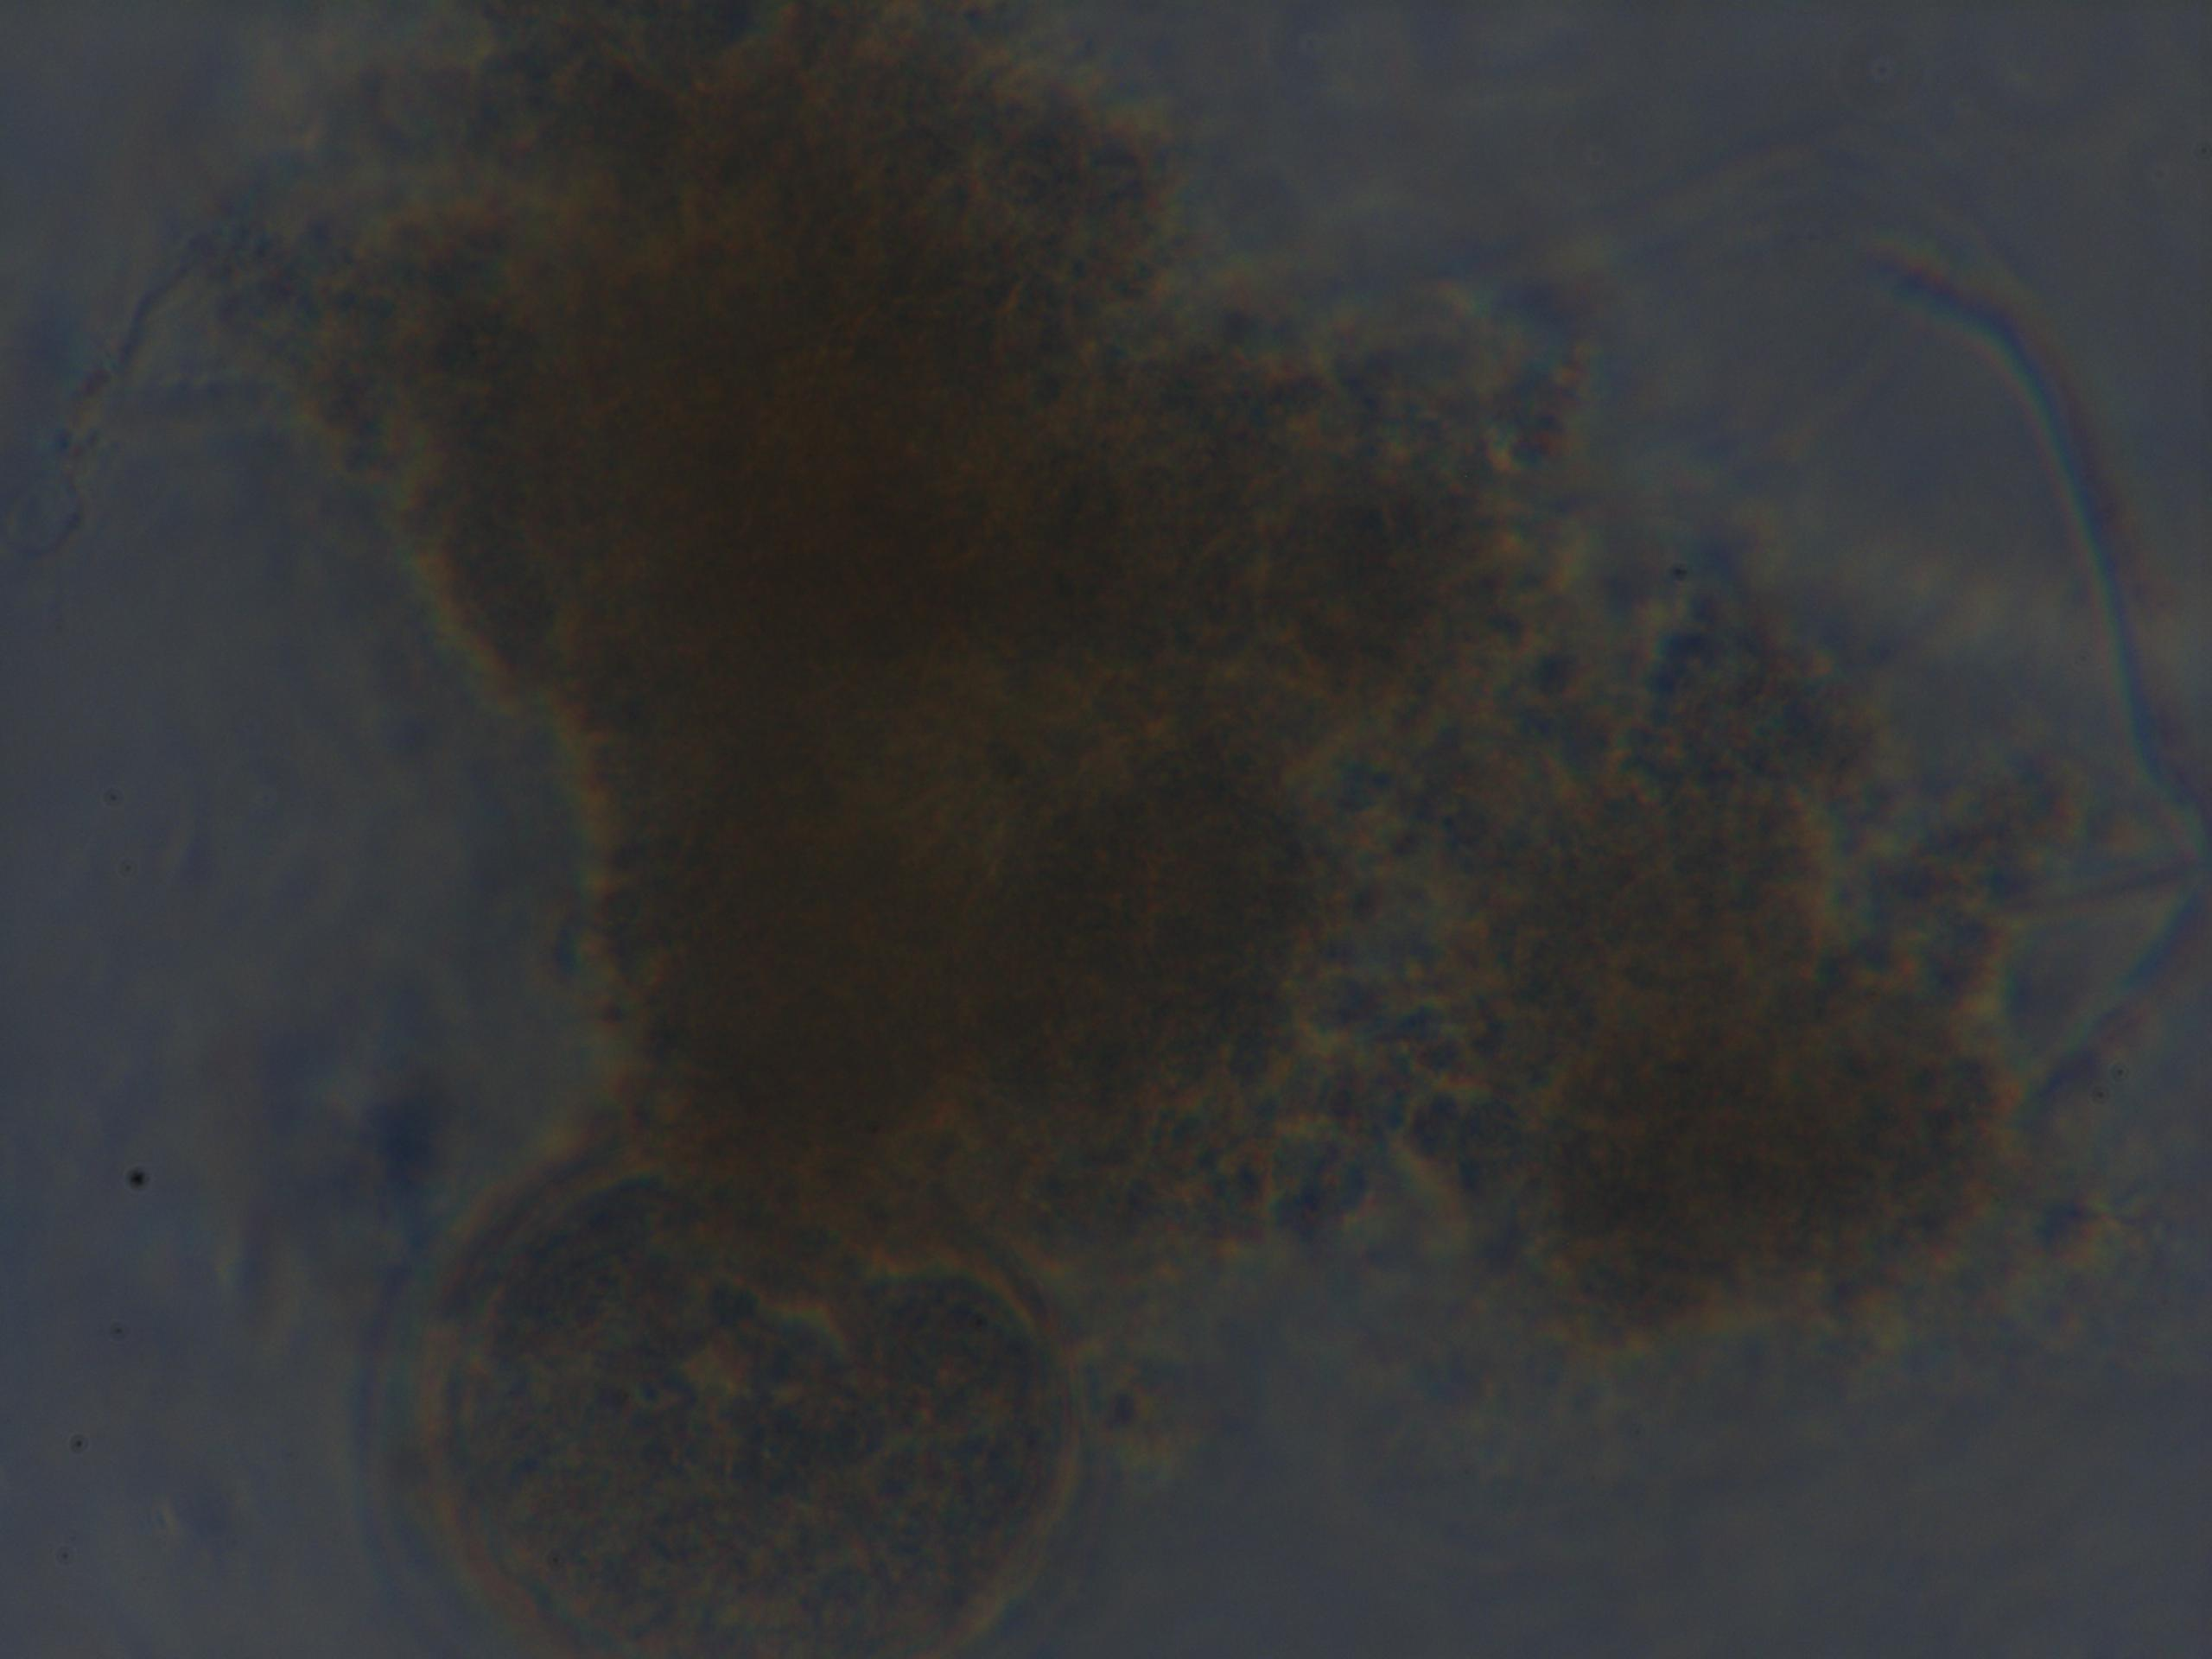filament: (1874, 254, 2212, 1089)
spherical_floc: (315, 0, 2069, 1364)
